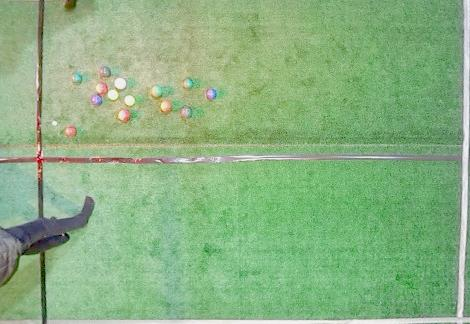blue: (90, 94, 102, 106), (206, 89, 217, 100)
green: (150, 85, 163, 98), (180, 106, 193, 118), (99, 67, 111, 78), (182, 78, 193, 89), (71, 73, 82, 84)
red: (118, 109, 131, 122), (160, 100, 172, 113), (96, 82, 108, 94), (64, 126, 77, 137), (114, 78, 126, 89)
vline: (1, 1, 44, 215), (454, 1, 469, 323), (1, 252, 49, 323)
white: (52, 121, 57, 126)
yellow: (107, 89, 119, 100), (124, 95, 135, 106)
